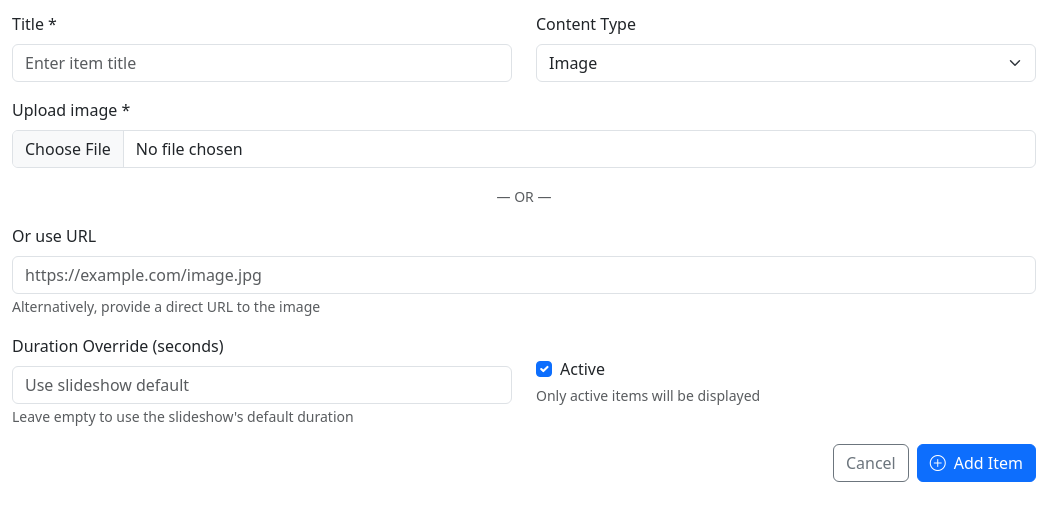
Scenario: SlideshowItemForm › Video URL Validation › shows error for invalid video codec
The width and height of the screenshot is (1048, 524).
# Change to video content type
Select "Video" in the dropdown labelled "Content Type" at (786, 63), box [536,44,1036,82]
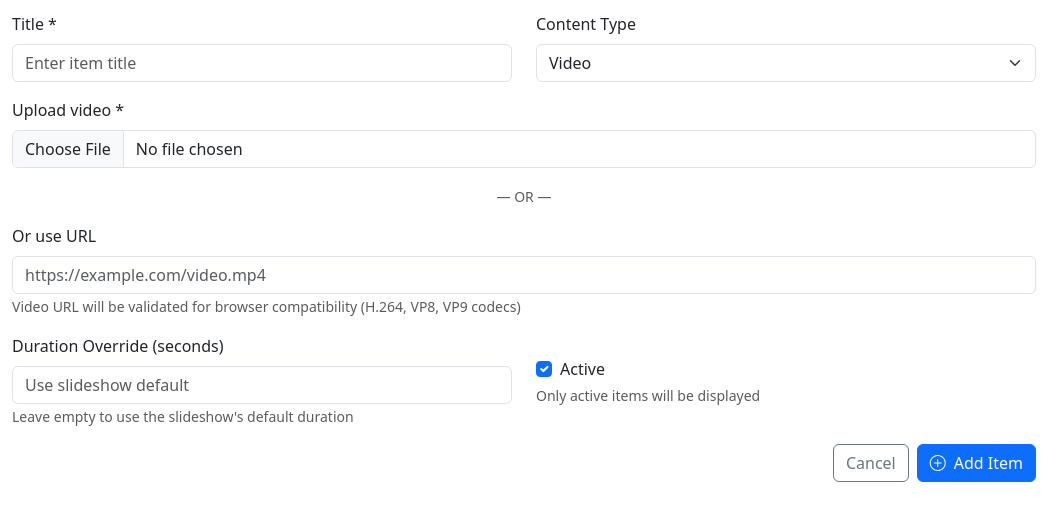
# Enter a video URL and blur
Type "https://example.com/video.mpeg" into the field labelled "Or use URL" at (524, 275), box [12,256,1036,294]
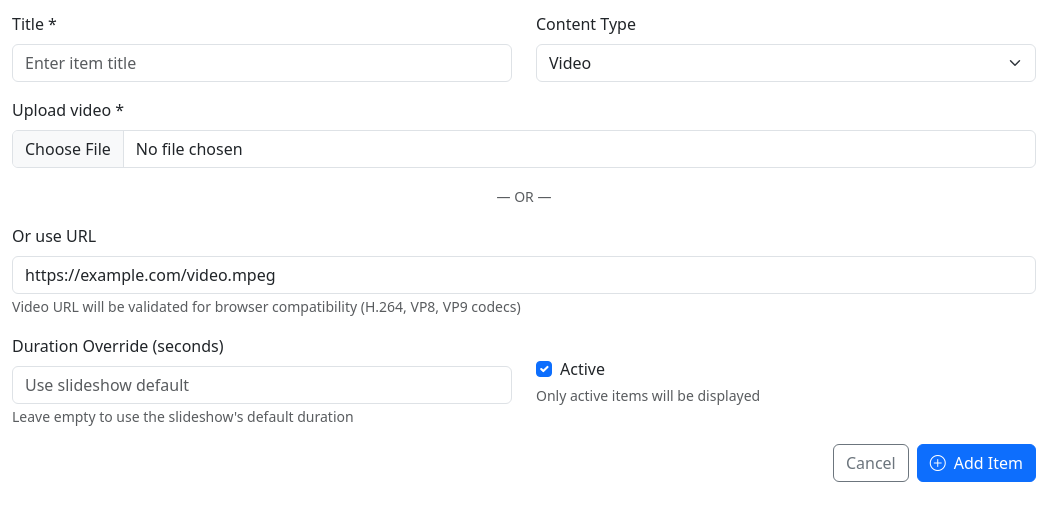
Leave the field labelled "Or use URL", box [12,256,1036,294]
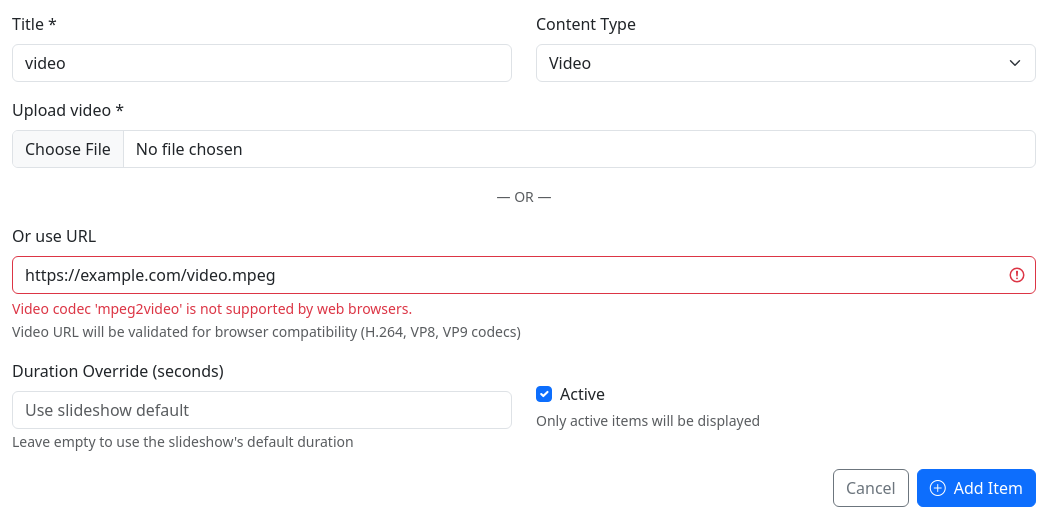
Expected: the text "Video codec 'mpeg2video' is not supported by web browsers." is shown, [12,299,412,318]
